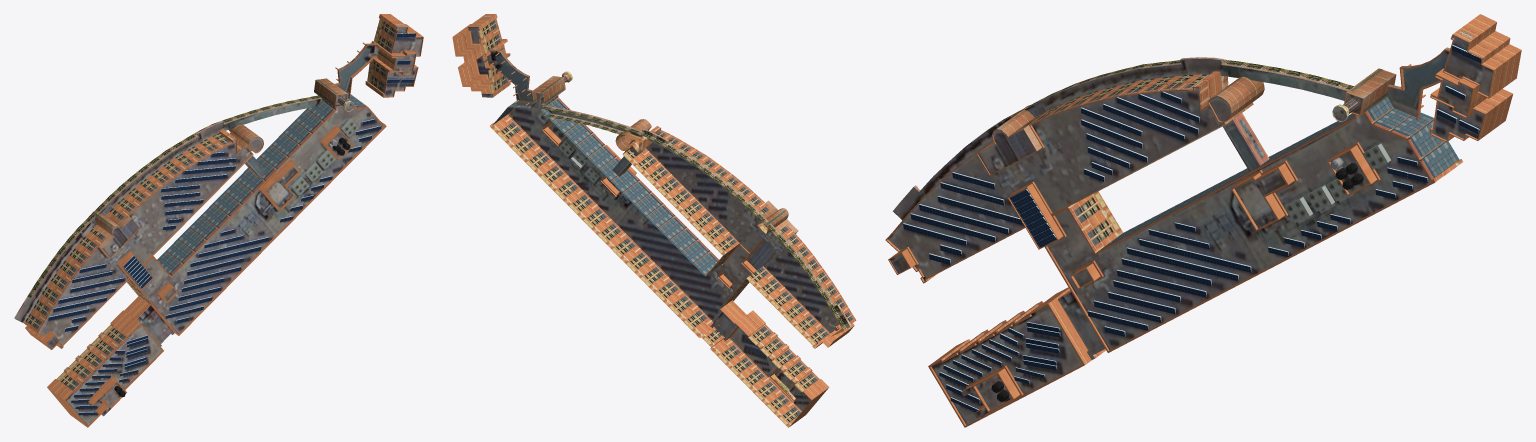
The model's file is Fortis_hospital.glb.
3 renders of one model, left to right at view 1: azimuth 30°, elevation 25°; view 2: azimuth 150°, elevation 25°; view 3: azimuth 330°, elevation 25°, orthographic. The views are drawn at different scales.
Visible parts, largest first — view 1: Terrain.002; view 2: Terrain.002; view 3: Terrain.002.
Part boxes in pixels (x1,y1,x2,y2): Terrain.002: [14, 14, 423, 427]; Terrain.002: [452, 14, 856, 427]; Terrain.002: [885, 14, 1521, 427].
Bounding box in the file's own units: 204 × 161 × 26.43.
Materials: 4 (4 with a texture image).
